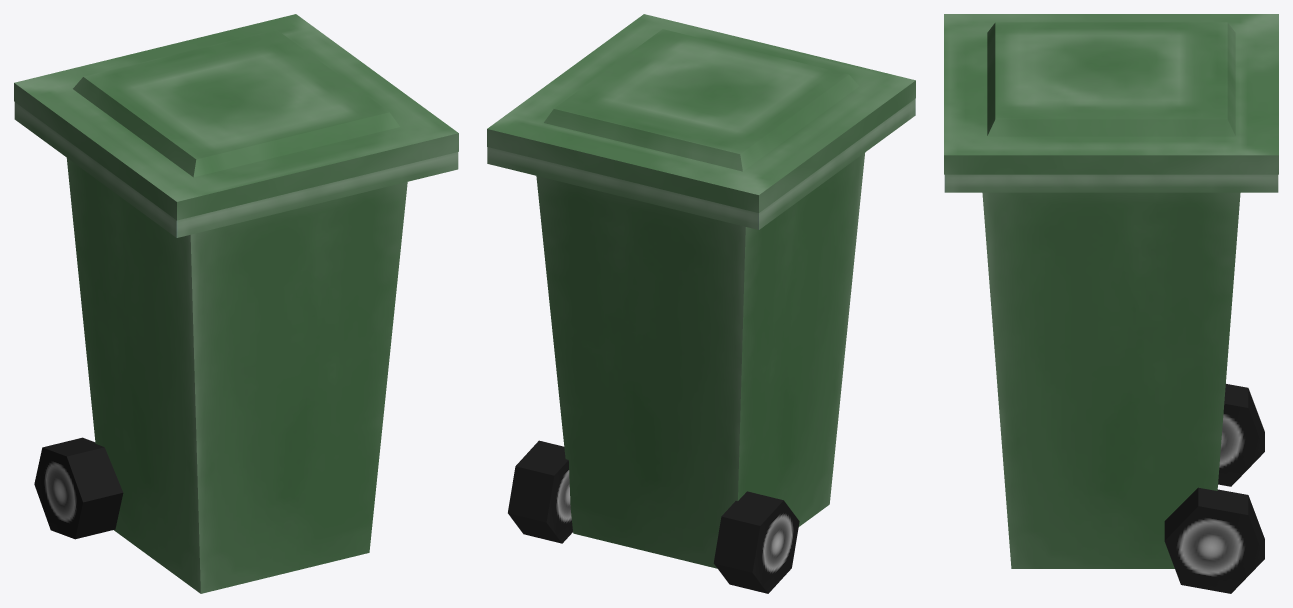
Rendered from GreenTrashcan.fbx.
The picture shows the model from 3 angles, left to right: view 1: azimuth 30°, elevation 25°; view 2: azimuth 150°, elevation 25°; view 3: azimuth 270°, elevation 25°; orthographic projection. The views are drawn at different scales.
Visible parts, largest first — view 1: Maya_File_Assets:TexturedAssetsCurrent:trashBIn; view 2: Maya_File_Assets:TexturedAssetsCurrent:trashBIn; view 3: Maya_File_Assets:TexturedAssetsCurrent:trashBIn.
Boxes of the visible parts, x1,y1,x2,y2 form: Maya_File_Assets:TexturedAssetsCurrent:trashBIn: [14, 14, 458, 593]; Maya_File_Assets:TexturedAssetsCurrent:trashBIn: [487, 14, 915, 593]; Maya_File_Assets:TexturedAssetsCurrent:trashBIn: [944, 14, 1278, 593].
Size of the model in its own units: 0.783 by 1.19 by 0.783.
